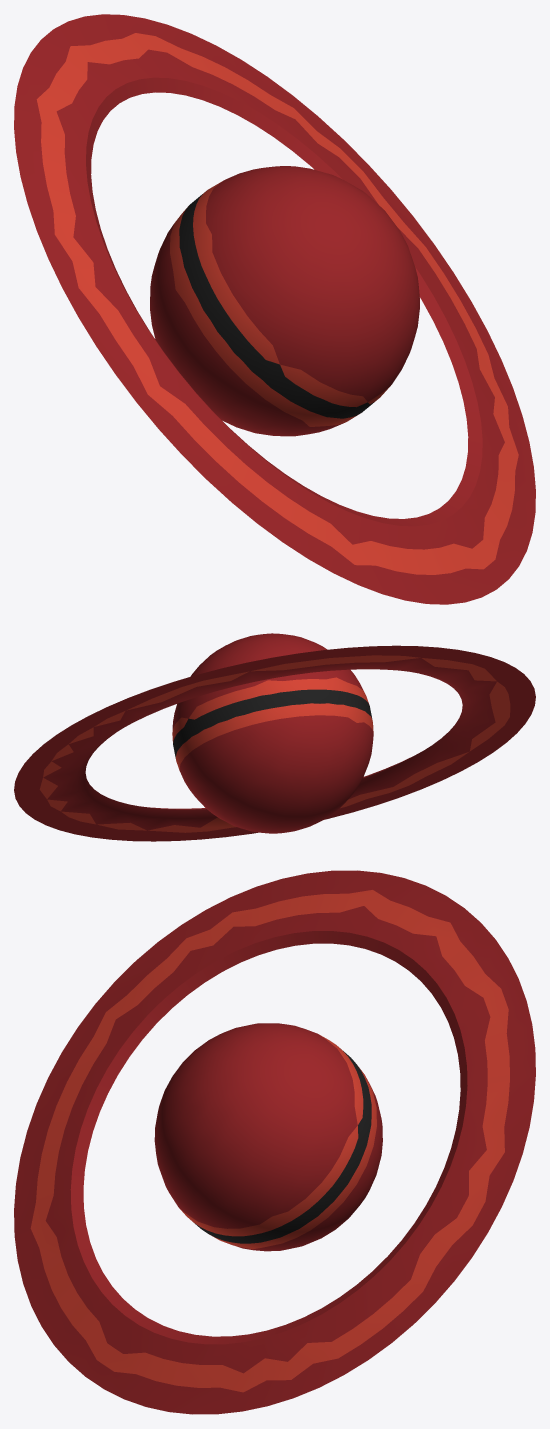
File: planet_d.glb
The picture shows the model from 3 angles, top to bottom: view 1: azimuth 30°, elevation 25°; view 2: azimuth 150°, elevation 25°; view 3: azimuth 270°, elevation 25°; orthographic projection. The views are drawn at different scales.
Parts seen in each view (by area): view 1: Planet_10; view 2: Planet_10; view 3: Planet_10.
Part boxes in pixels (x1,y1,x2,y2): Planet_10: [14, 14, 535, 604]; Planet_10: [14, 633, 535, 841]; Planet_10: [14, 870, 535, 1414].
Bounding box in the file's own units: 5.74 × 4.68 × 5.74.
1 material, 1 textured.
